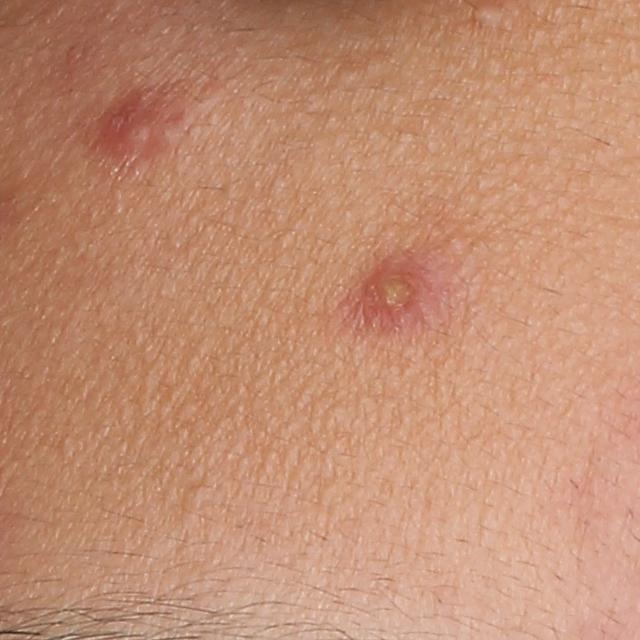comedo: (472, 0, 507, 28), (186, 485, 208, 512)
papule: (116, 107, 172, 151)
pustule: (357, 260, 432, 329)
